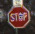stopsign: (8, 5, 30, 28)
